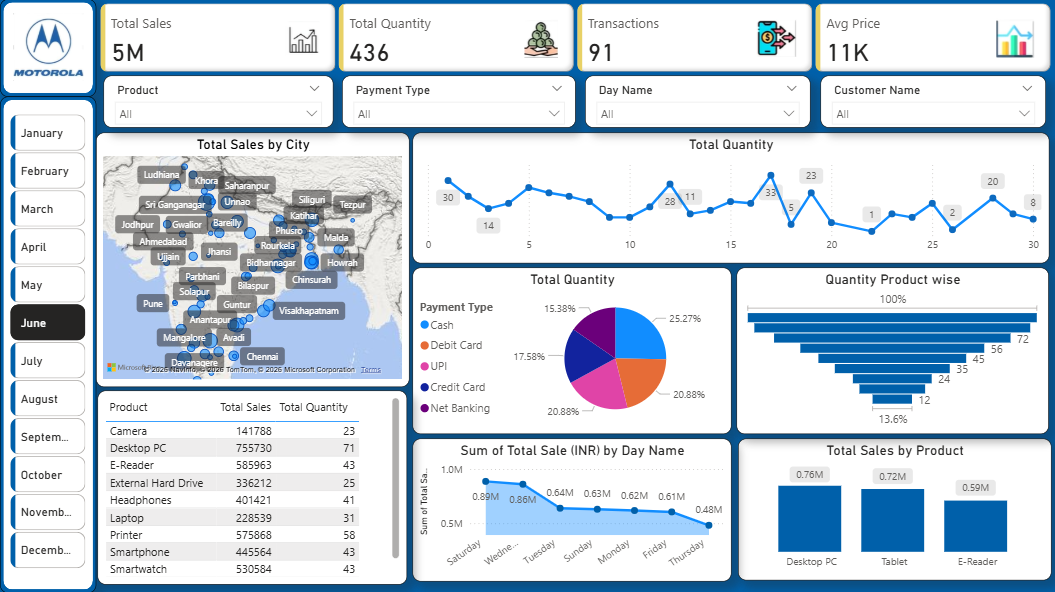

Layout of this report page (visuals, bound fields, positions):
{"tool":"powerbi","page":{"name":"Page 1","canvas":[1280,720],"ordinal":0},"visuals":[{"type":"shape","box":[0,0,116.7,118.3],"z":0},{"type":"image","box":[10,11.7,95,95],"z":1000},{"type":"shape","box":[0,118.3,116.7,601.7],"z":1001},{"type":"advancedSlicerVisual","fields":{"Values":["Sales_Data.Sales Date.Variation.Date Hierarchy.Month"]},"box":[6.7,135,101.7,570],"z":1002},{"type":"cardVisual","fields":{"Data":["Sales_Data.Total Sales","Sales_Data.Total Quantity","Sales_Data.Transactions","Sales_Data.Avg Price"]},"box":[116.7,0,1163.3,93.3],"z":1003},{"type":"map","fields":{"Category":["Sales_Data.City"],"Size":["Sales_Data.Total Sales"]},"box":[116.7,161.7,380,308.3],"z":1004},{"type":"lineChart","title":"Total Quantity","fields":{"Category":["Sales_Data.Sales Date.Variation.Date Hierarchy.Month","Sales_Data.Sales Date.Variation.Date Hierarchy.Day"],"Y":["Sales_Data.Total Quantity"]},"box":[500,161.7,771.7,158.3],"z":1005},{"type":"clusteredColumnChart","title":"Total Sales by Product","fields":{"Y":["Sum(Sales_Data.Total Sale (INR))"],"Category":["Sales_Data.Product"]},"box":[895,533.3,380,171.7],"z":1006},{"type":"pieChart","title":"Total Quantity","fields":{"Category":["Sales_Data.Payment Type"],"Y":["Sales_Data.Transactions"]},"box":[500,325,386.7,201.7],"z":1007},{"type":"funnel","title":"Quantity Product wise","fields":{"Category":["Sales_Data.Quantity"],"Y":["Sum(Sales_Data.Quantity)"]},"box":[893.3,325,378.3,201.7],"z":1008},{"type":"areaChart","fields":{"Category":["Sales_Data.Day Name"],"Y":["Sum(Sales_Data.Total Sale (INR))"]},"box":[500,533.3,386.7,173.3],"z":1009},{"type":"tableEx","title":"Total Quantity","fields":{"Values":["Sales_Data.Product","Sales_Data.Total Sales","Sales_Data.Total Quantity"]},"box":[118.3,475,375,235],"z":1010},{"type":"slicer","fields":{"Values":["Sales_Data.Product"]},"box":[125,93.3,278.3,63.3],"z":1011},{"type":"slicer","fields":{"Values":["Sales_Data.Payment Type"]},"box":[415,93.3,283.3,63.3],"z":1012},{"type":"slicer","fields":{"Values":["Sales_Data.Day Name"]},"box":[708.3,93.3,273.3,63.3],"z":1013},{"type":"slicer","fields":{"Values":["Sales_Data.Customer Name"]},"box":[995,93.3,273.3,63.3],"z":1014}]}

Visuals, with their boxes in screenshot pixels (x1, y1, x2, y2), scaled from the page's 1280x720 canvas onto the 1055x592 screenshot:
shape: (0,0,96,97)
image: (8,10,87,88)
shape: (0,97,96,591)
advancedSlicerVisual - Sales_Data.Sales Date.Variation.Date Hierarchy.Month: (6,111,89,580)
cardVisual - Sales_Data.Total Sales x Sales_Data.Total Quantity: (96,0,1054,77)
map - Sales_Data.City x Sales_Data.Total Sales: (96,133,409,386)
"Total Quantity" lineChart: (412,133,1048,263)
"Total Sales by Product" clusteredColumnChart: (738,438,1051,580)
"Total Quantity" pieChart: (412,267,731,433)
"Quantity Product wise" funnel: (736,267,1048,433)
areaChart - Sales_Data.Day Name x Sum(Sales_Data.Total Sale (INR)): (412,438,731,581)
"Total Quantity" tableEx: (98,391,407,584)
slicer - Sales_Data.Product: (103,77,332,129)
slicer - Sales_Data.Payment Type: (342,77,576,129)
slicer - Sales_Data.Day Name: (584,77,809,129)
slicer - Sales_Data.Customer Name: (820,77,1045,129)
